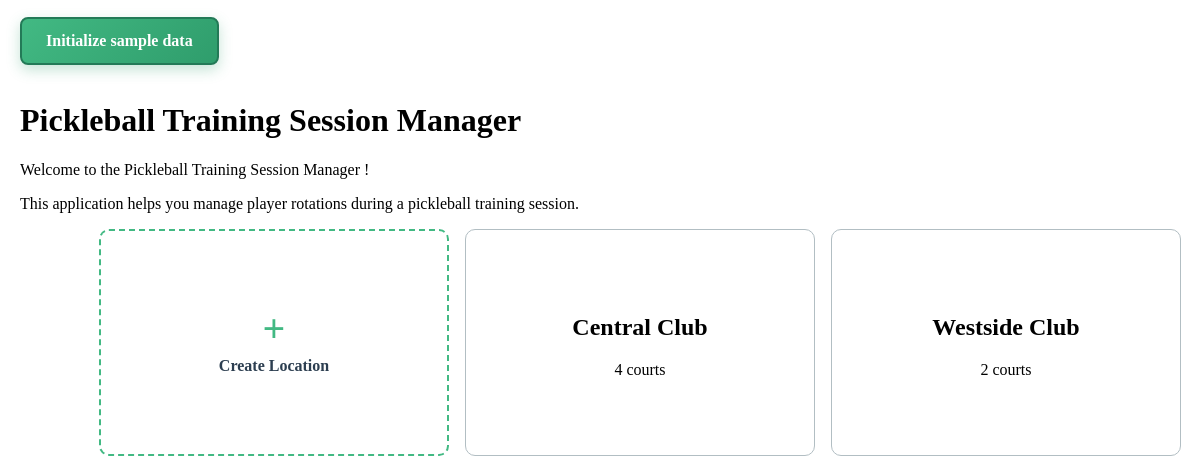
Scenario: HomeView › labels the action from the open-session status
Click the button with class "location-card-select" showing "Central Club".
click(640, 327)  # box [572,314,708,341]
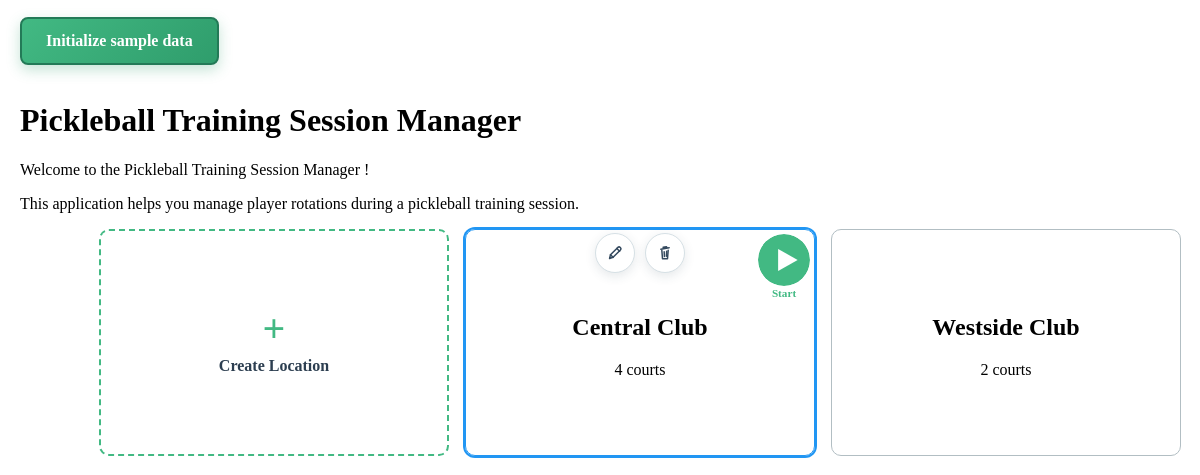
Result: the button with class "location-card-session-action" reads "Start" at [758,234,810,299]
Click the button with class "location-card-select" showing "Westside Club".
click(1006, 327)  # box [932,314,1080,341]
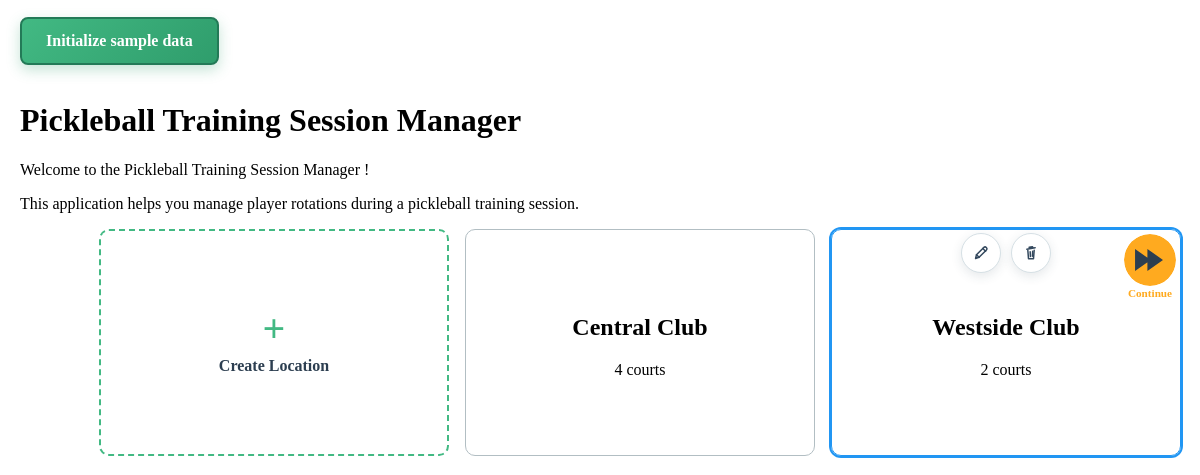
Result: the button with class "location-card-session-action" reads "Continue" at [1124,234,1176,299]
